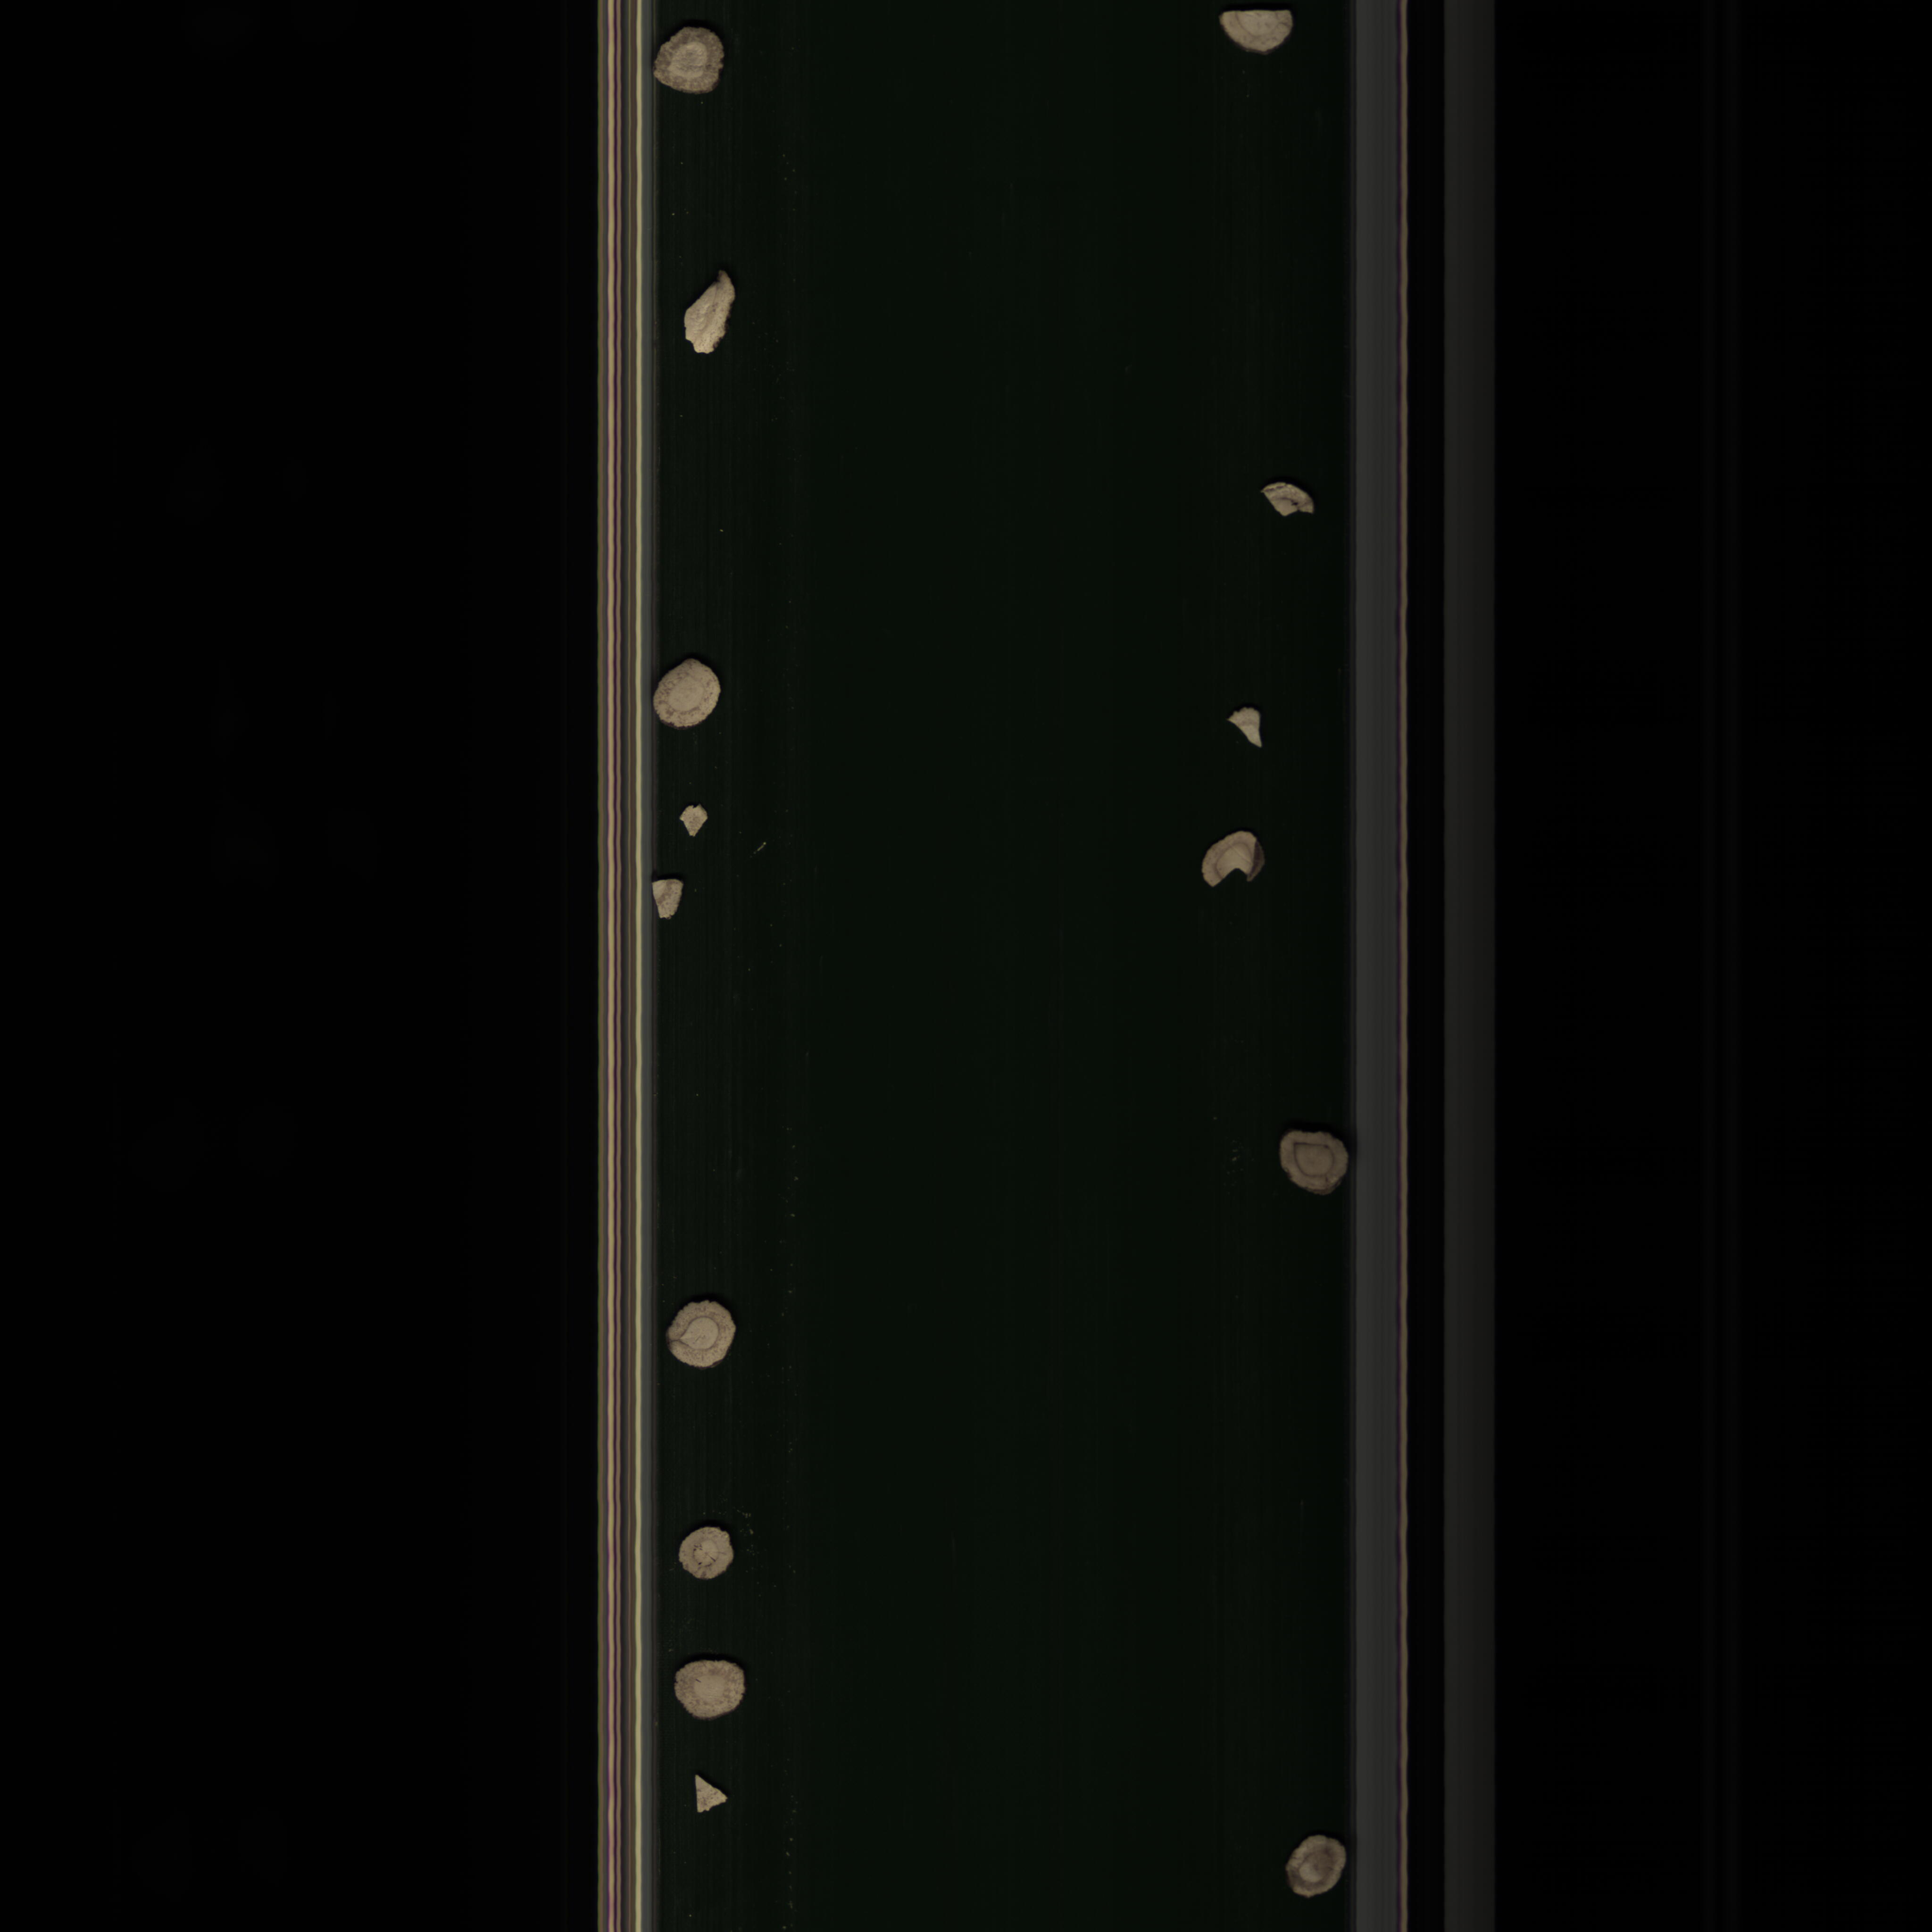debris: (678, 258, 740, 372), (1253, 476, 1322, 522), (681, 1764, 731, 1822), (1221, 701, 1272, 752), (646, 869, 688, 929), (669, 801, 717, 844)
moldy: (651, 21, 732, 103), (1276, 1120, 1355, 1201), (1281, 1824, 1353, 1909), (1189, 828, 1270, 892)
